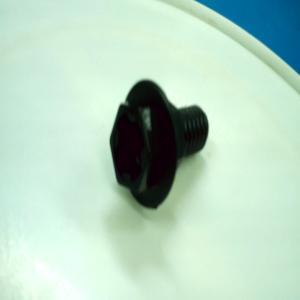parafuso: (107, 73, 212, 213), (106, 75, 212, 211)
